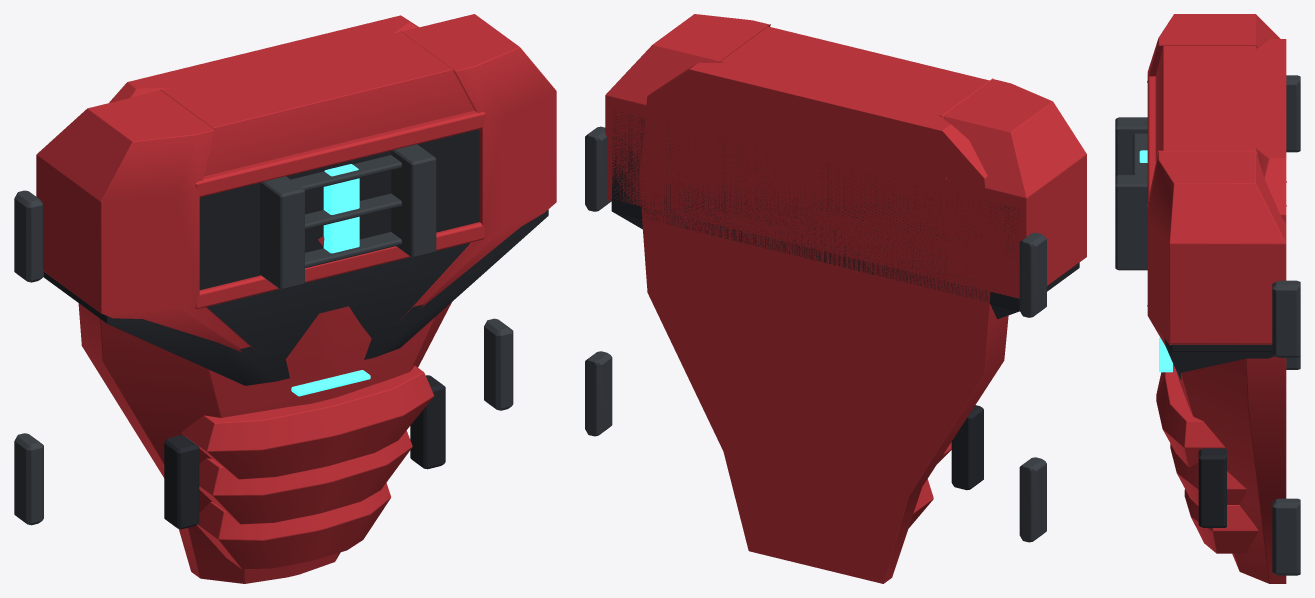
Rendered from BodyFront_Set03_Overclock.fbx.
3 renders of one model, left to right at view 1: azimuth 30°, elevation 25°; view 2: azimuth 150°, elevation 25°; view 3: azimuth 270°, elevation 25°, orthographic. The views are drawn at different scales.
Visible parts, largest first — view 1: BodyFront_Set03_Overclock; view 2: BodyFront_Set03_Overclock; view 3: BodyFront_Set03_Overclock.
Boxes of the visible parts, <box> form: BodyFront_Set03_Overclock: <box>14,14,556,583</box>; BodyFront_Set03_Overclock: <box>585,14,1086,583</box>; BodyFront_Set03_Overclock: <box>1115,14,1300,583</box>.
Size of the model in its own units: 1.07 by 1.06 by 0.392.
